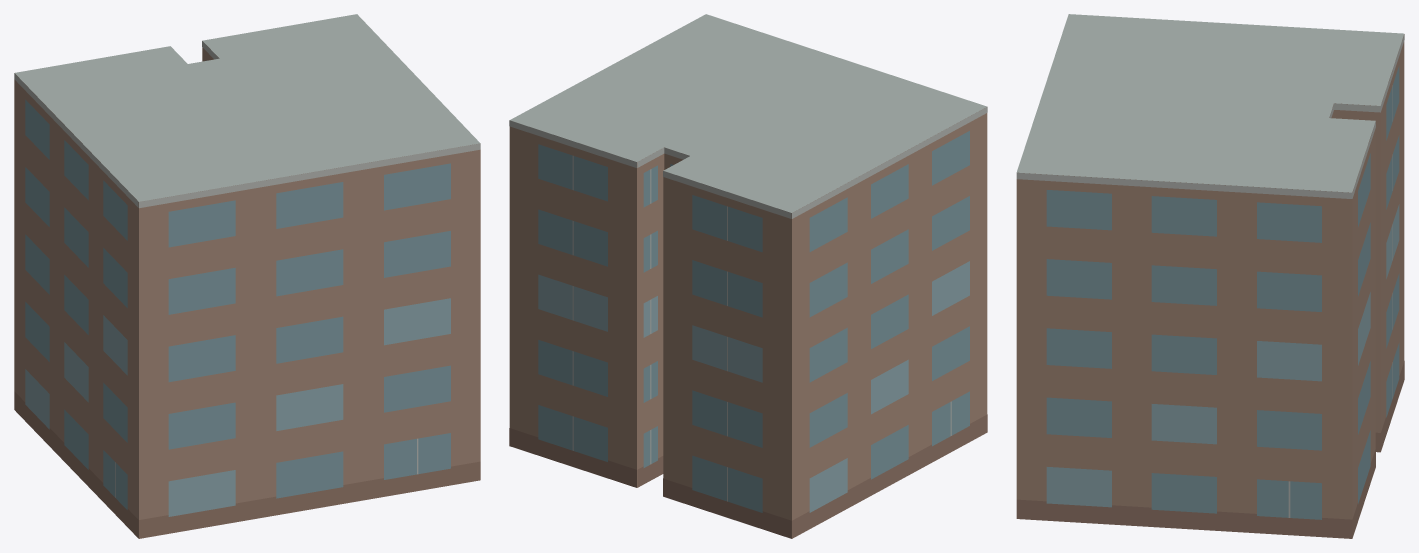
The model's file is survey-upis-32659430.glb.
3 renders of one model, left to right at view 1: azimuth 30°, elevation 25°; view 2: azimuth 150°, elevation 25°; view 3: azimuth 270°, elevation 25°, orthographic. The views are drawn at different scales.
Visible parts, largest first — view 1: survey-upis-32659430.tmp; view 2: survey-upis-32659430.tmp; view 3: survey-upis-32659430.tmp.
Boxes of the visible parts, box(x1,y1,x2,y2) form: survey-upis-32659430.tmp: box(14, 14, 480, 538); survey-upis-32659430.tmp: box(509, 14, 987, 538); survey-upis-32659430.tmp: box(1016, 14, 1404, 538).
Bounding box in the file's own units: 14.39 × 13 × 13.21.
